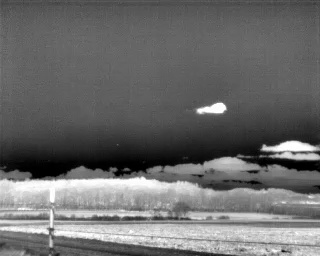DRONE: (193, 97, 229, 119)
